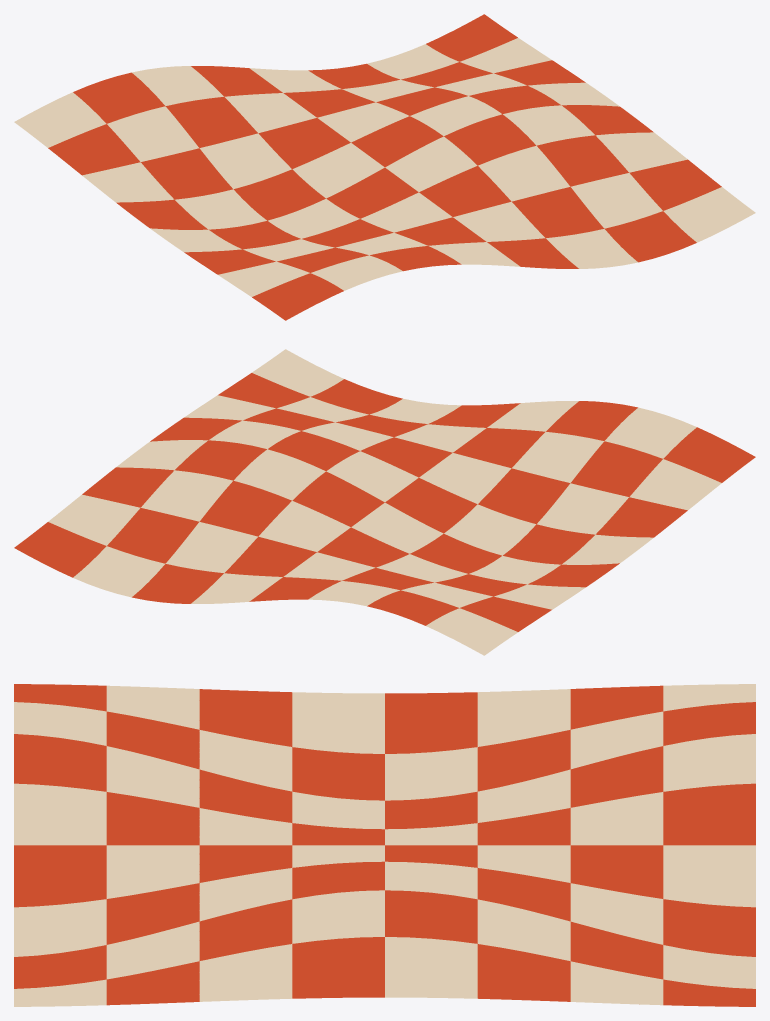
Rendered from quad.gltf.
The picture shows the model from 3 angles, top to bottom: view 1: azimuth 30°, elevation 25°; view 2: azimuth 150°, elevation 25°; view 3: azimuth 270°, elevation 25°; orthographic projection. The views are drawn at different scales.
Parts seen in each view (by area): view 1: Quad; view 2: Quad; view 3: Quad.
Boxes of the visible parts, <box> form: Quad: <box>14,14,755,320</box>; Quad: <box>14,349,755,655</box>; Quad: <box>14,684,755,1006</box>.
Bounding box in the file's own units: 1 × 0.0997 × 1.
1 material, 1 textured.
